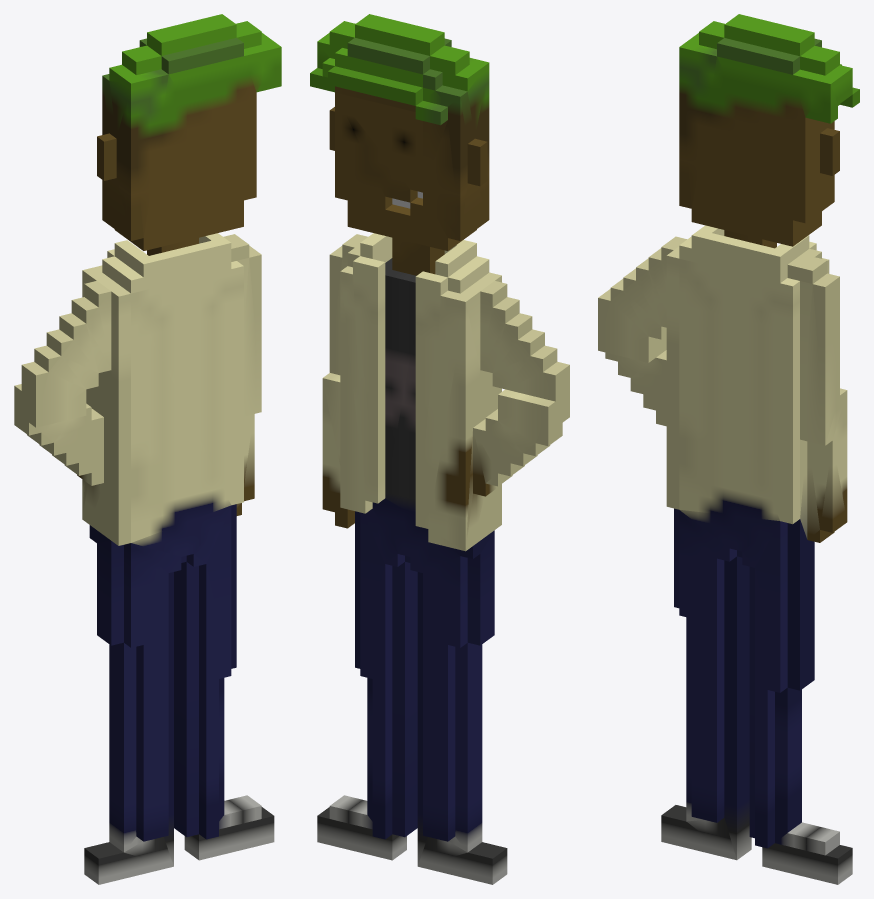
File: Artist.dae
The picture shows the model from 3 angles, left to right: view 1: azimuth 30°, elevation 25°; view 2: azimuth 150°, elevation 25°; view 3: azimuth 330°, elevation 25°; orthographic projection.
Visible parts, largest first — view 1: artist.merged; view 2: artist.merged; view 3: artist.merged.
Part boxes in pixels (x1,y1,x2,y2): artist.merged: (14, 14, 281, 884); artist.merged: (310, 14, 569, 884); artist.merged: (598, 14, 859, 884).
Size of the model in its own units: 1.9 by 0.5 by 6.3.
Materials: 1 (1 with a texture image).
